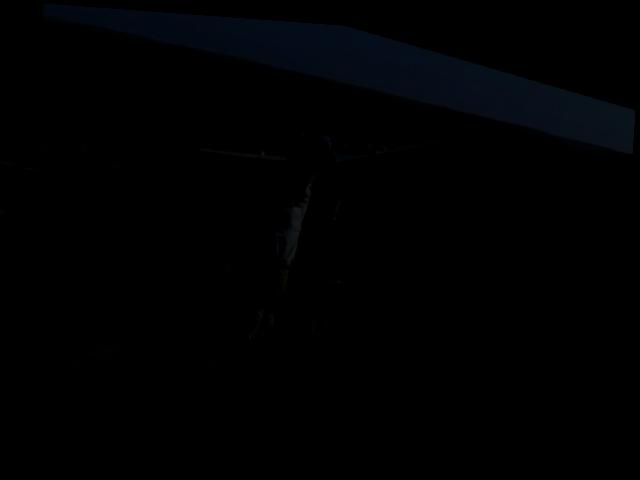iha: (198, 69, 449, 212)
